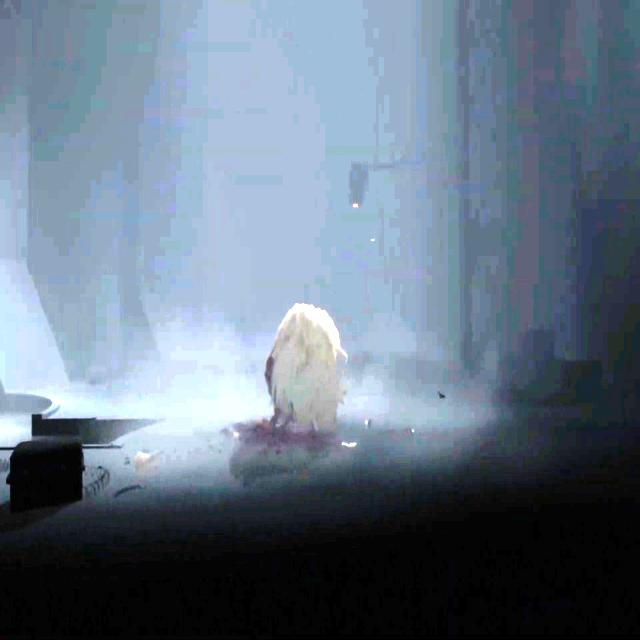blob: (265, 303, 347, 440)
interactible: (347, 154, 368, 210)
structure: (455, 0, 510, 382)
